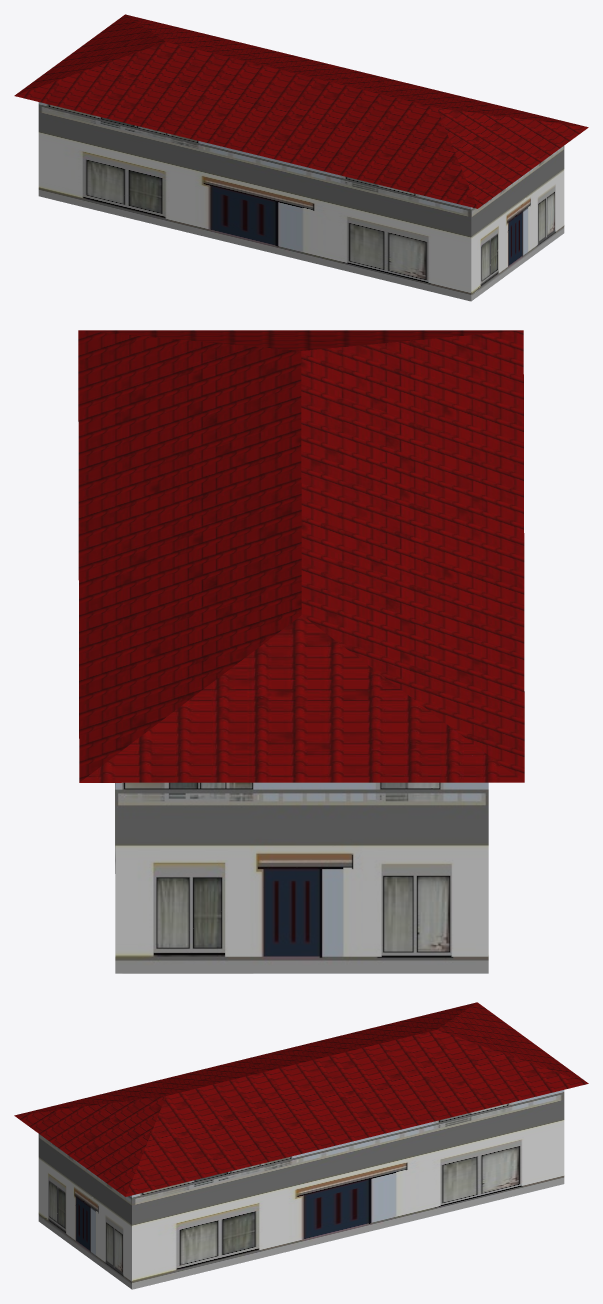
3 renders of one model, top to bottom at view 1: azimuth 30°, elevation 25°; view 2: azimuth 150°, elevation 25°; view 3: azimuth 270°, elevation 25°, orthographic. The views are drawn at different scales.
Visible parts, largest first — view 1: CityEngineMaterial_17_m, CityEngineMaterial_7_m; view 2: CityEngineMaterial_17_m, CityEngineMaterial_7_m; view 3: CityEngineMaterial_17_m, CityEngineMaterial_7_m.
Boxes of the visible parts, x1,y1,x2,y2 form: CityEngineMaterial_17_m: [14, 14, 588, 208]; CityEngineMaterial_7_m: [38, 102, 564, 301]; CityEngineMaterial_17_m: [78, 330, 524, 782]; CityEngineMaterial_7_m: [115, 782, 488, 973]; CityEngineMaterial_17_m: [14, 1002, 588, 1196]; CityEngineMaterial_7_m: [38, 1090, 564, 1289].
Size of the model in its own units: 23.96 by 8.02 by 29.89.
